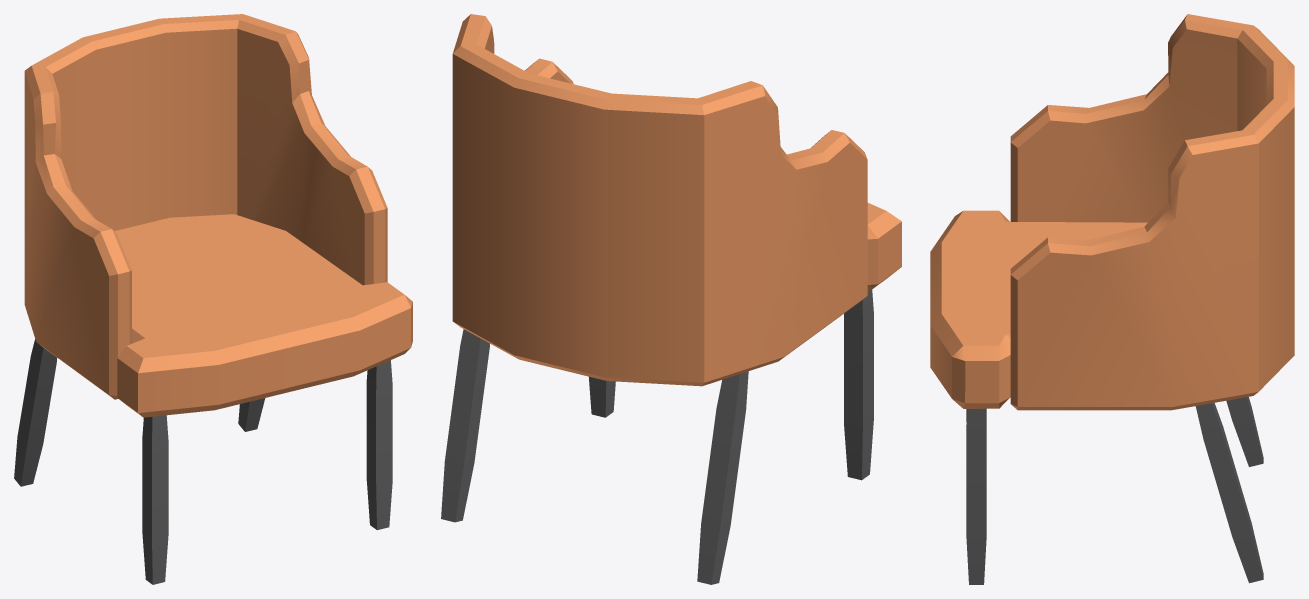
The model's file is Silla01.fbx.
3 renders of one model, left to right at view 1: azimuth 30°, elevation 25°; view 2: azimuth 150°, elevation 25°; view 3: azimuth 270°, elevation 25°, orthographic. The views are drawn at different scales.
Parts seen in each view (by area): view 1: Silla01; view 2: Silla01; view 3: Silla01.
Boxes of the visible parts, bbox=[...] form: Silla01: bbox=[14, 14, 412, 584]; Silla01: bbox=[441, 14, 901, 584]; Silla01: bbox=[930, 14, 1294, 584].
Size of the model in its own units: 78.27 by 112 by 83.24.
